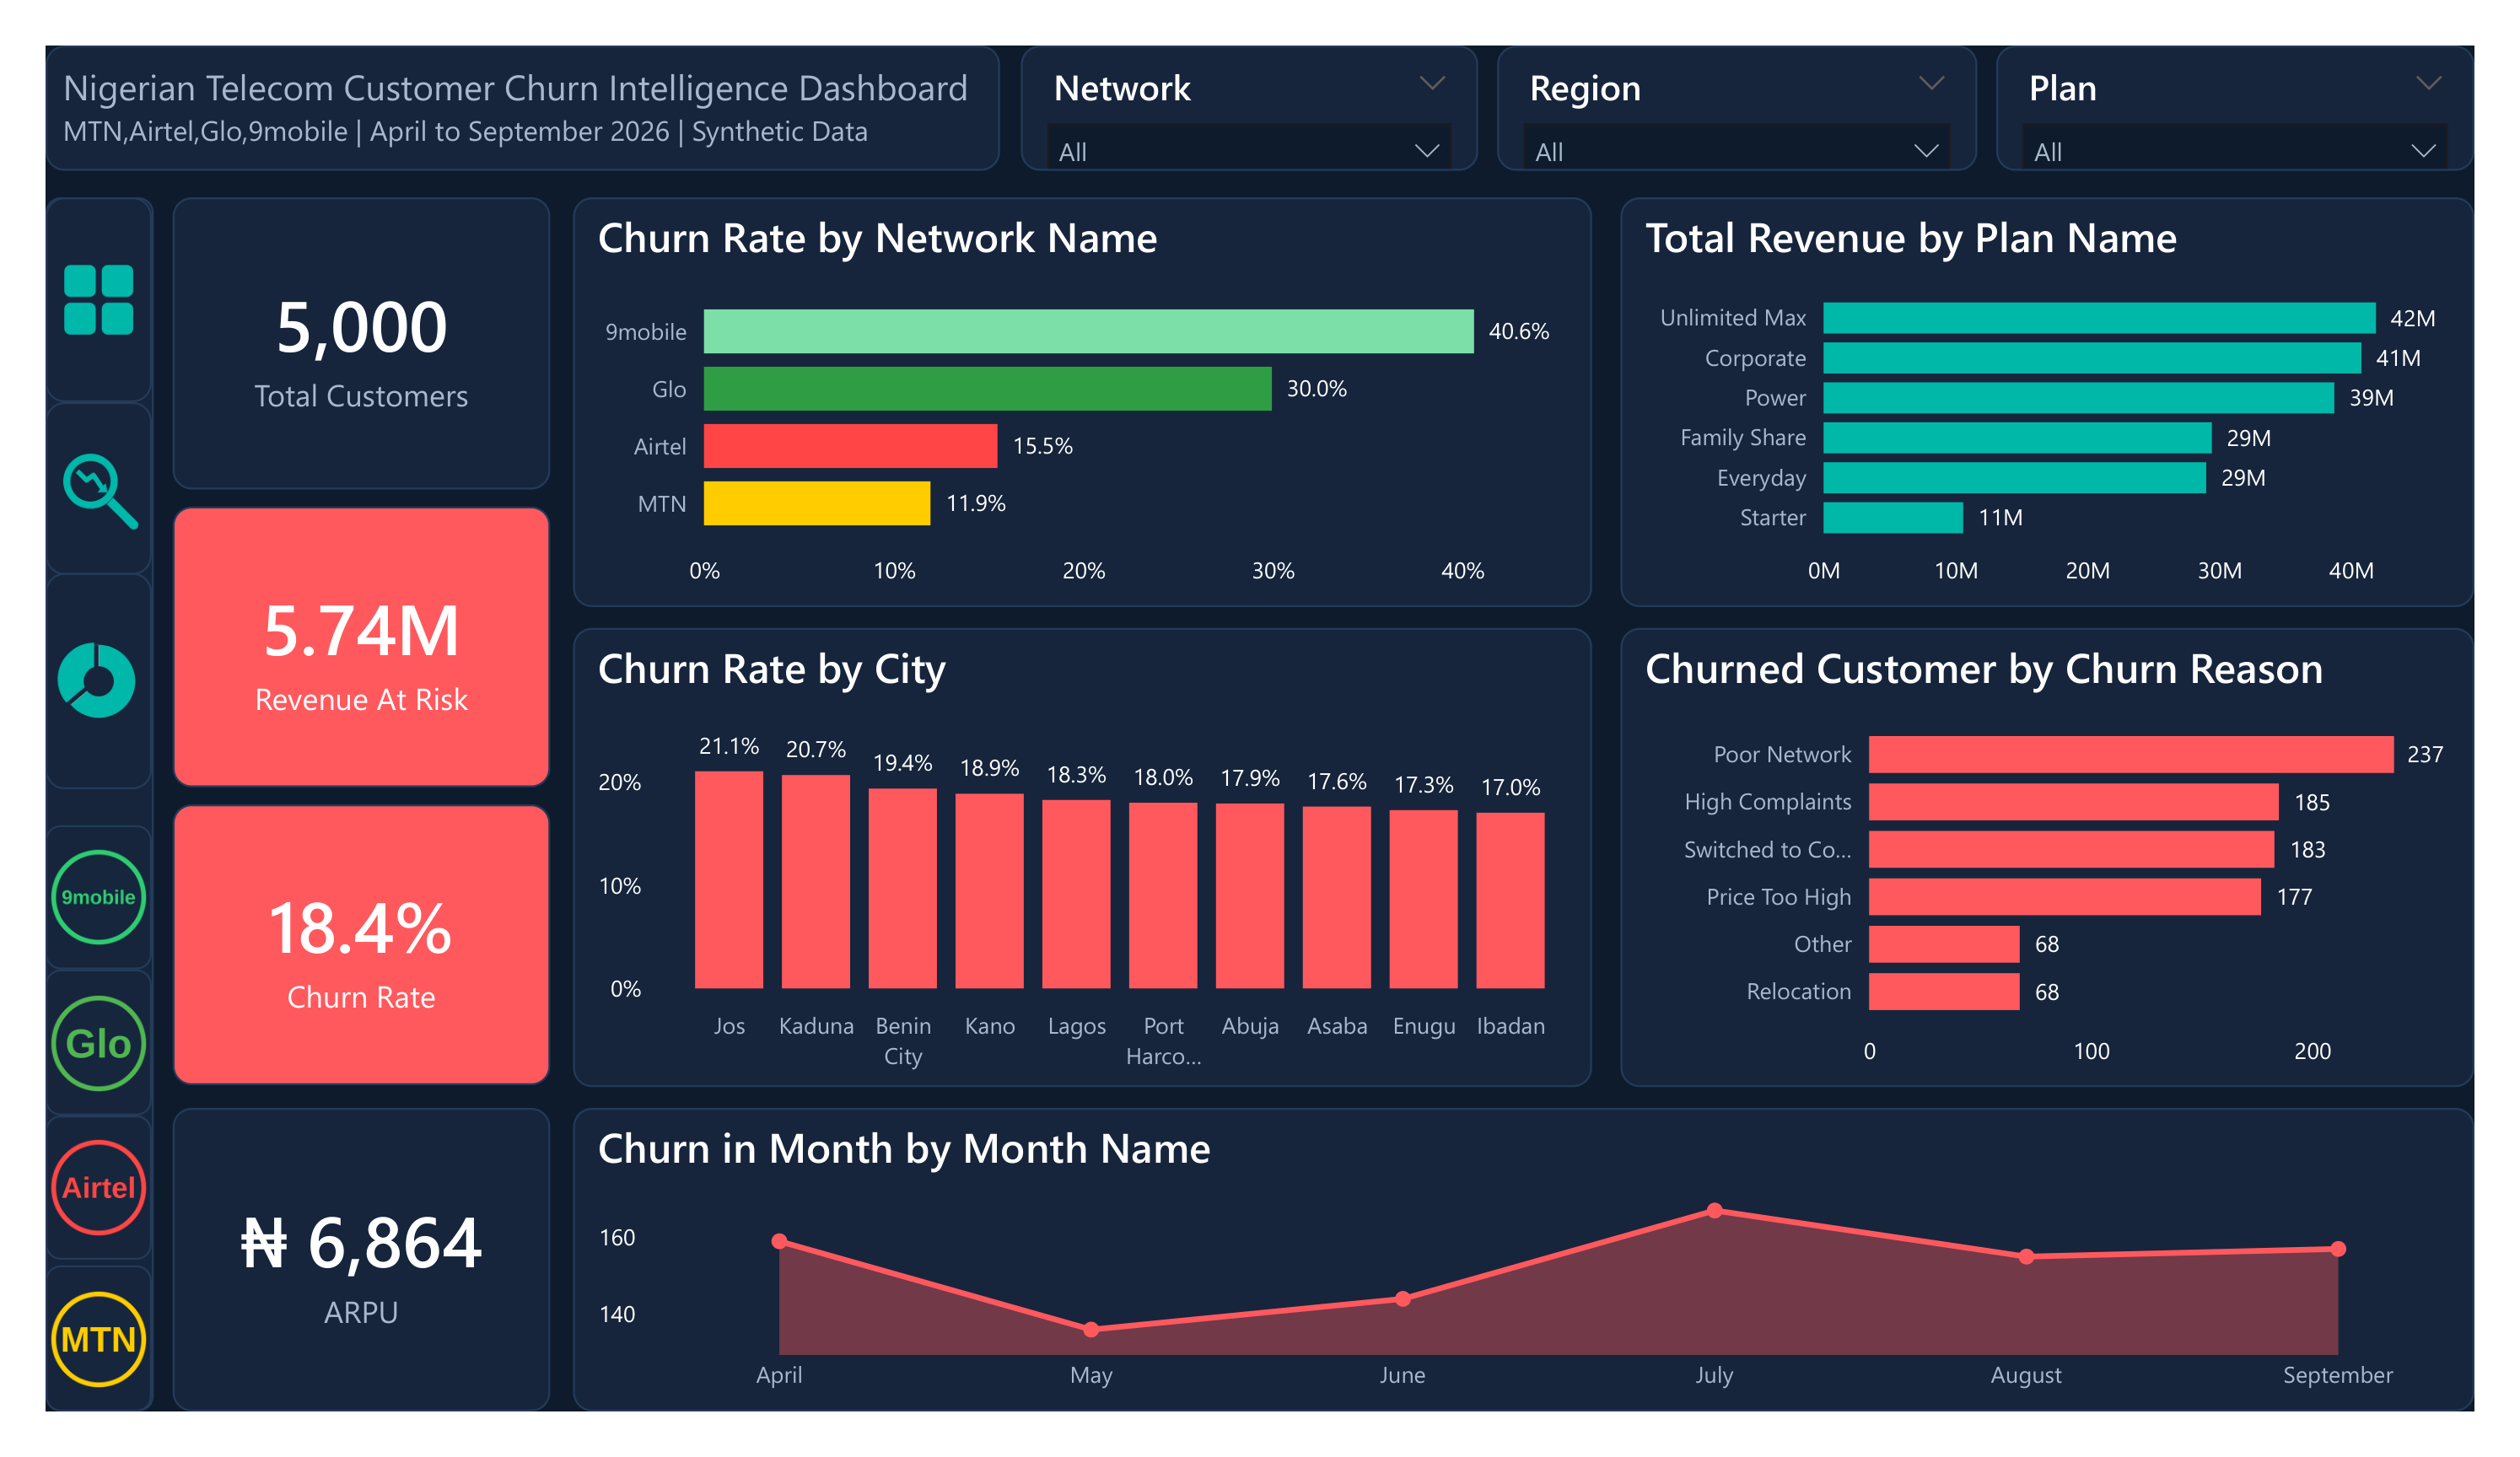

The page's visual inventory and layout, read from the dashboard file:
{"tool":"powerbi","page":{"name":"Executive Overview","canvas":[1280,720],"ordinal":0},"visuals":[{"type":"textbox","box":[0,0,503.2,65.8],"z":0},{"type":"slicer","fields":{"Values":["Dim_Network.Network_Name"]},"box":[513.5,0,241.3,65.8],"z":1000},{"type":"slicer","fields":{"Values":["Dim_Region.Zone"]},"box":[765.2,0,252.9,65.8],"z":2000},{"type":"slicer","fields":{"Values":["Dim_Plan.Plan_Name"]},"box":[1028.4,0,251.6,65.8],"z":3000},{"type":"textbox","box":[0,80,56.8,640],"z":4000},{"type":"card","fields":{"Values":["_Measures.Total Customer"]},"box":[67.1,80,198.7,153.5],"z":5000},{"type":"card","fields":{"Values":["_Measures.Revenue At Risk"]},"box":[67.1,242.6,198.7,148.4],"z":6000},{"type":"card","fields":{"Values":["_Measures.Churn Rate"]},"box":[67.1,400,198.7,148.4],"z":7000},{"type":"card","fields":{"Values":["_Measures.ARPU"]},"box":[67.1,560,198.7,160],"z":8000},{"type":"clusteredBarChart","title":"Churn Rate by Network Name","fields":{"Y":["_Measures.Churn Rate"],"Category":["Dim_Network.Network_Name"]},"box":[278,79.8,536.8,216.1],"z":9000},{"type":"clusteredBarChart","title":"Total Revenue by Plan Name","fields":{"Y":["_Measures.Total Revenue"],"Category":["Dim_Plan.Plan_Name"]},"box":[829.9,79.8,450.1,216.1],"z":10000},{"type":"columnChart","fields":{"Y":["_Measures.Churn Rate"],"Category":["Dim_Region.City"]},"box":[278,306.9,536.8,242.2],"z":11000},{"type":"clusteredBarChart","title":"Churned Customer by Churn Reason","fields":{"Y":["_Measures.Churned Customer"],"Category":["Dim_Customer.Churn_Reason"]},"box":[829.9,306.9,450.1,242.2],"z":12000},{"type":"lineChart","title":"Churn in Month by Month Name","fields":{"Y":["_Measures.Churn in Month"],"Category":["Dim_Date.Month_Name"]},"box":[278,560.2,1002,159.7],"z":13000},{"type":"image","box":[0,79.5,56.4,108.4],"z":14000},{"type":"image","box":[0,188,56.4,91.1],"z":15000},{"type":"image","box":[0,277.6,56.4,114.2],"z":16000},{"type":"image","box":[0,410.6,56.4,76.6],"z":17000},{"type":"image","box":[0,487.2,56.4,76.6],"z":18000},{"type":"image","box":[0,563.9,56.4,76.6],"z":19000},{"type":"image","box":[0,643.4,56.4,76.6],"z":20000}]}

Visuals, with their boxes in screenshot pixels (x1, y1, x2, y2), scaled from the page's 1280x720 canvas onto the 2520x1457 screenshot:
textbox: 0:0:991:133
slicer - Dim_Network.Network_Name: 1011:0:1486:133
slicer - Dim_Region.Zone: 1506:0:2005:133
slicer - Dim_Plan.Plan_Name: 2025:0:2519:133
textbox: 0:162:112:1456
card - _Measures.Total Customer: 132:162:523:472
card - _Measures.Revenue At Risk: 132:491:523:791
card - _Measures.Churn Rate: 132:809:523:1110
card - _Measures.ARPU: 132:1133:523:1456
"Churn Rate by Network Name" clusteredBarChart: 547:162:1604:599
"Total Revenue by Plan Name" clusteredBarChart: 1634:162:2519:599
columnChart - _Measures.Churn Rate x Dim_Region.City: 547:621:1604:1111
"Churned Customer by Churn Reason" clusteredBarChart: 1634:621:2519:1111
"Churn in Month by Month Name" lineChart: 547:1133:2519:1456
image: 0:161:111:380
image: 0:380:111:565
image: 0:562:111:793
image: 0:831:111:986
image: 0:986:111:1141
image: 0:1141:111:1296
image: 0:1302:111:1456
